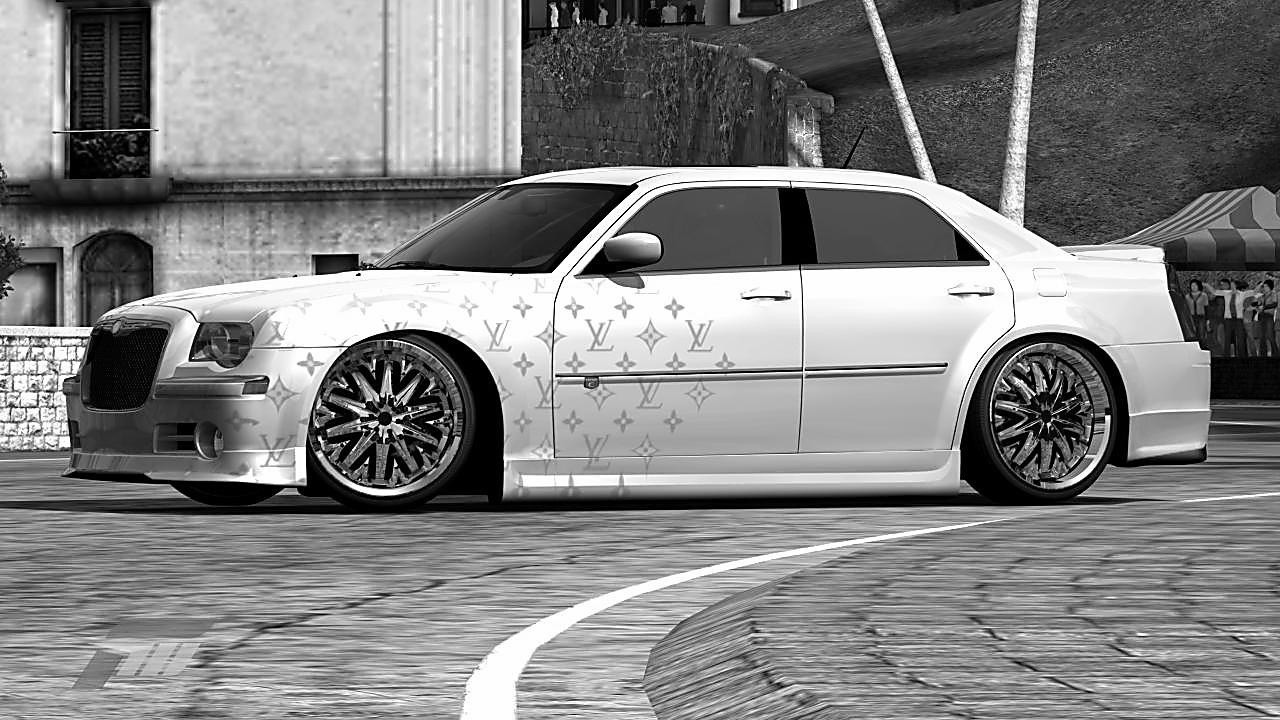car: (62, 165, 1216, 512)
